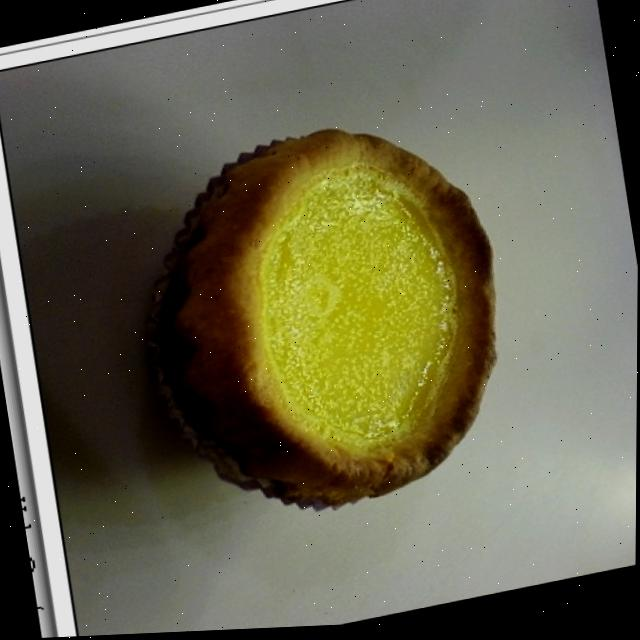炸货点心: (113, 82, 537, 558)
蛋糕甜品: (113, 82, 537, 558)
